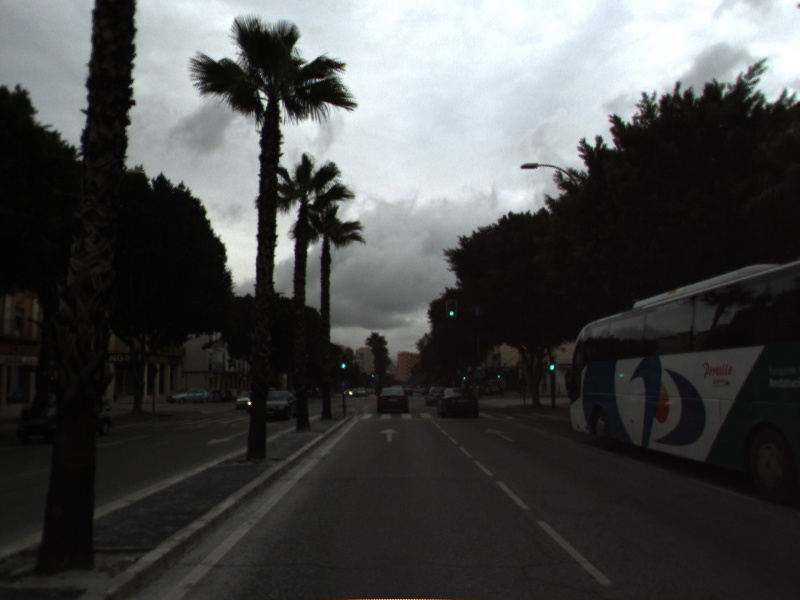STRAIGHT: (482, 425, 517, 444), (377, 426, 403, 444)
